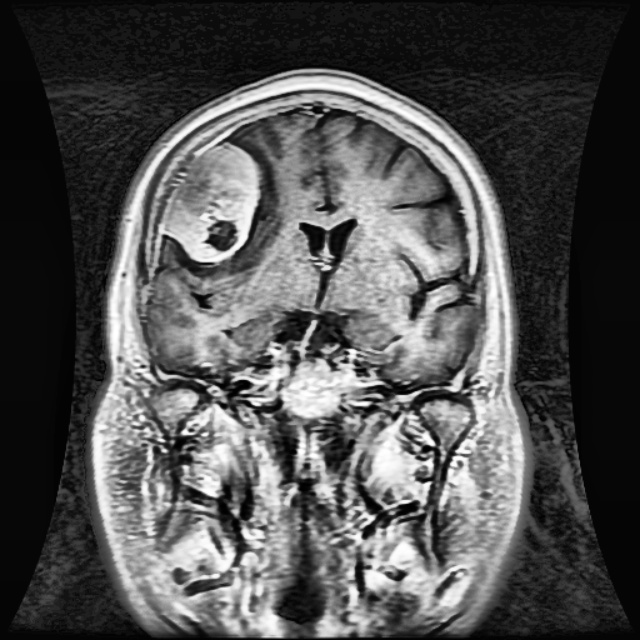Glioma: (162, 143, 259, 262)
